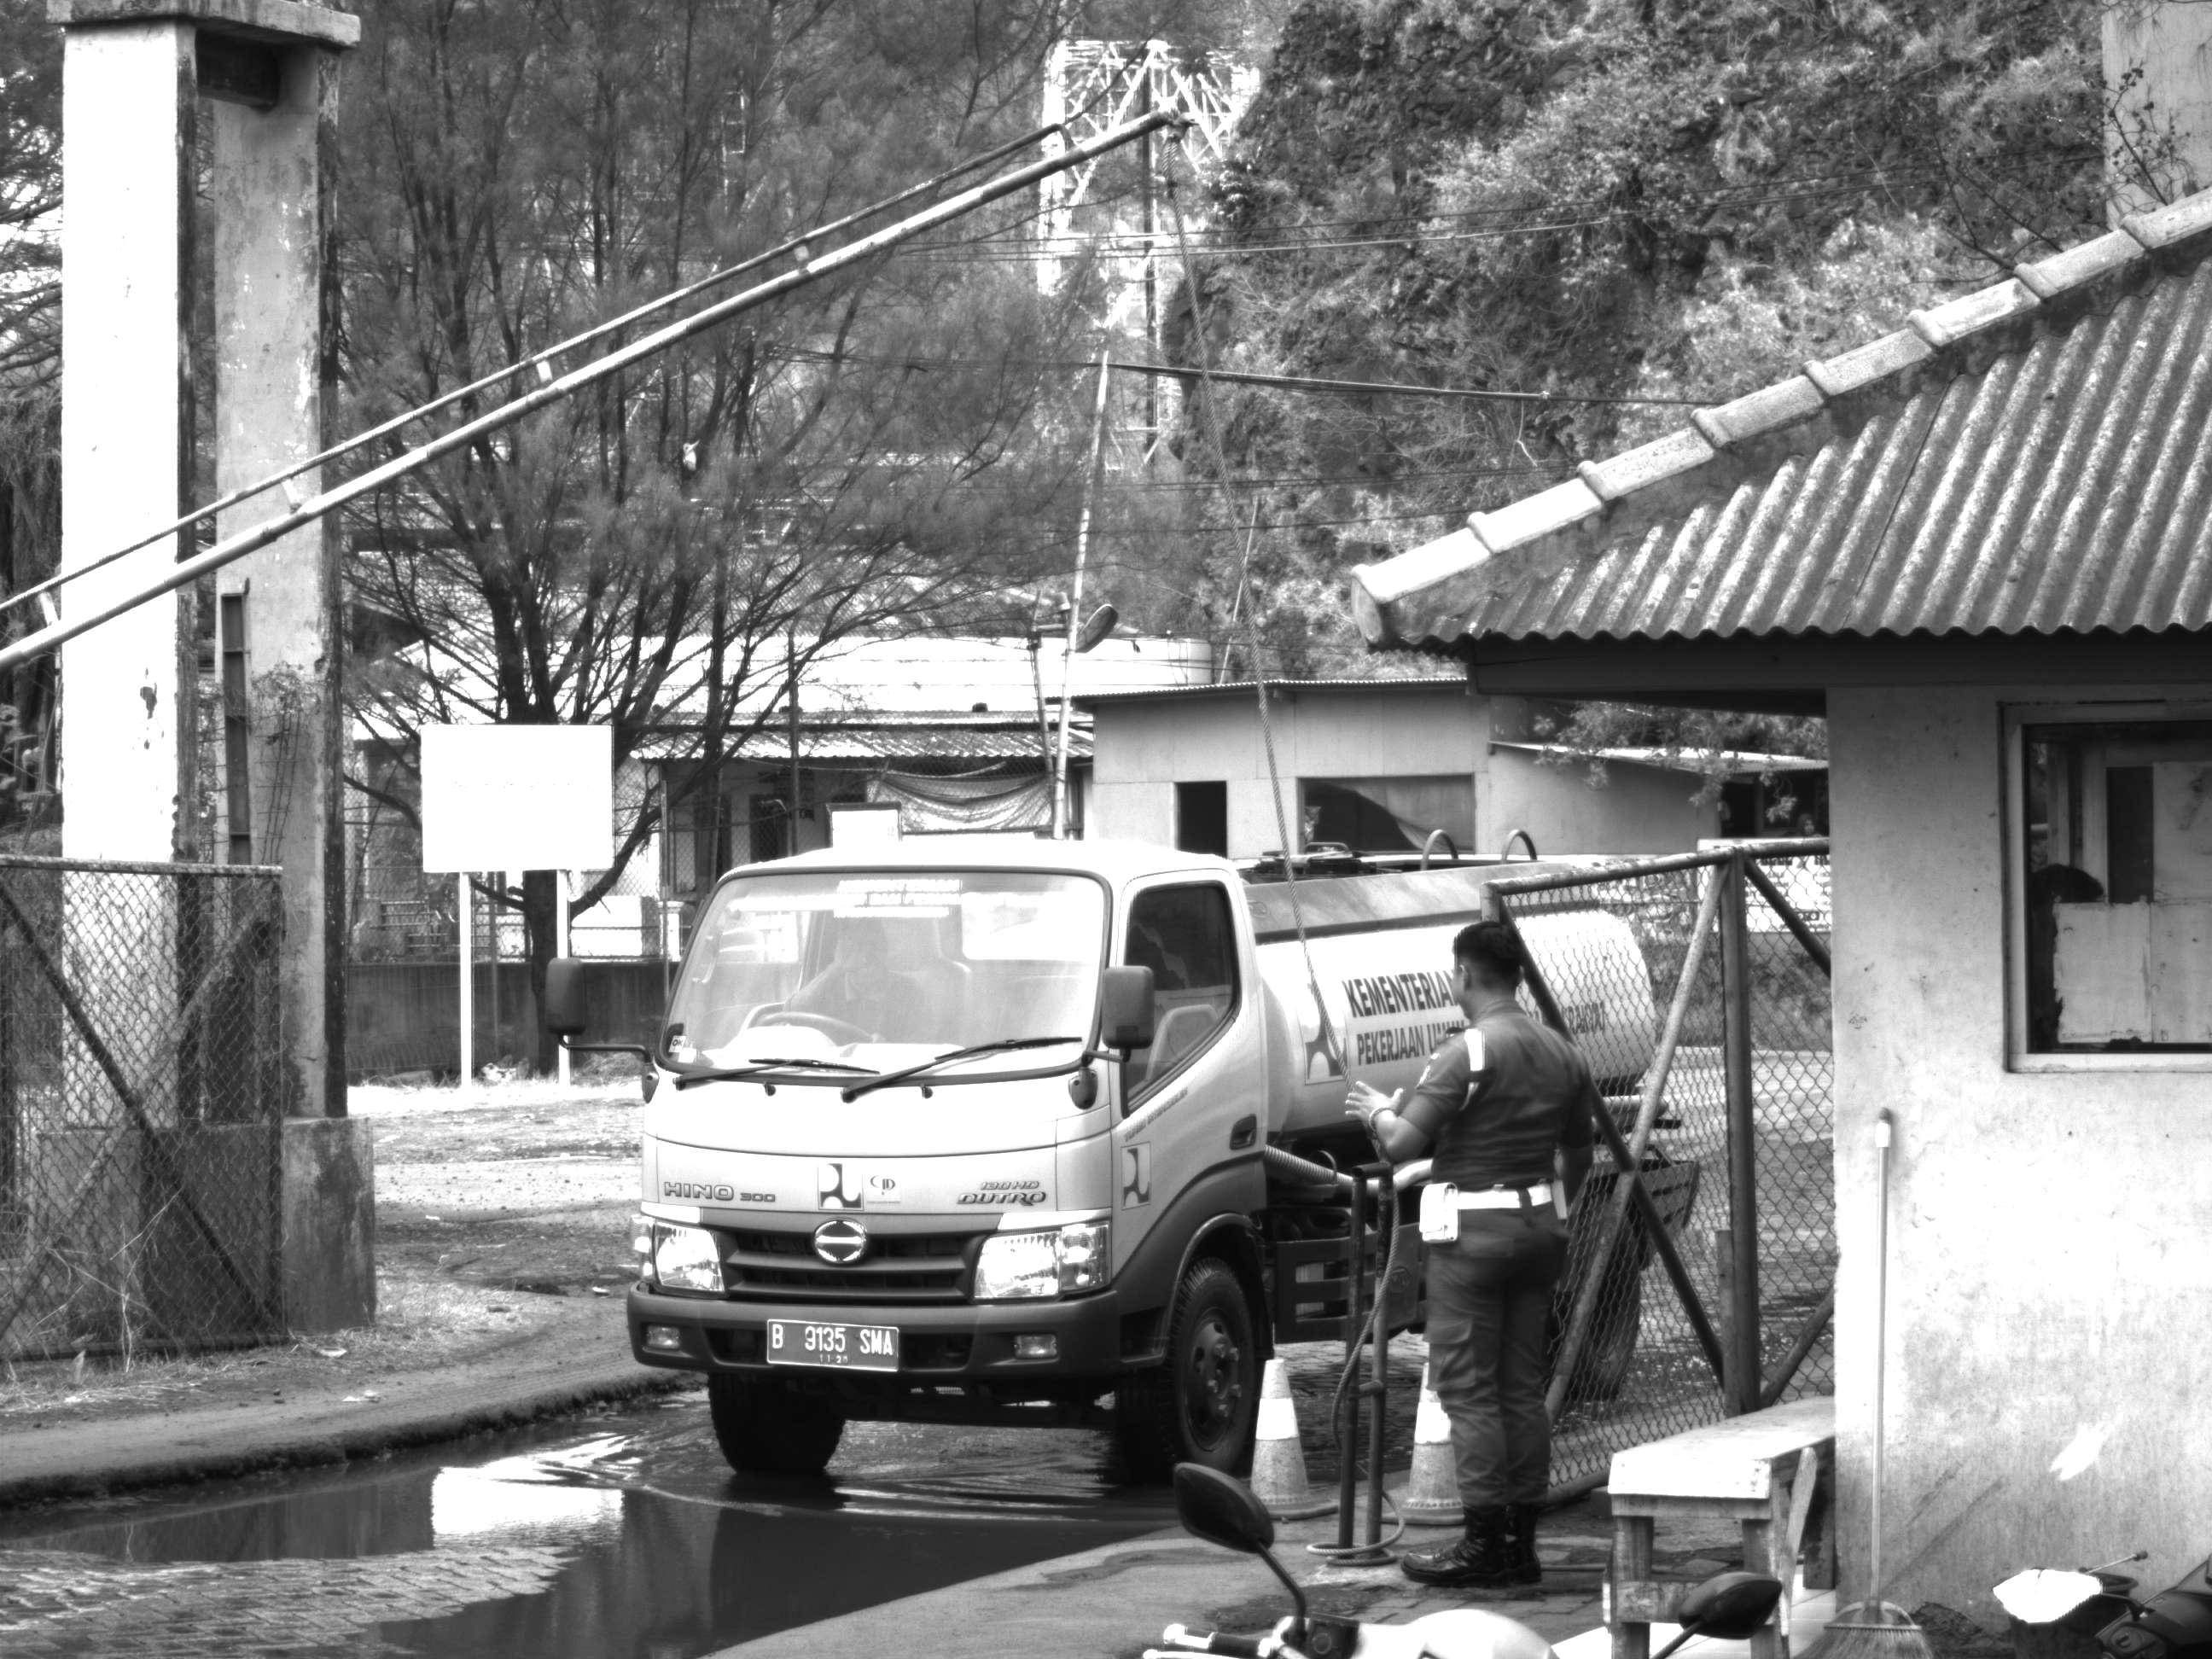day_truck_front: (610, 841, 1301, 1479)
plate: (765, 1318, 911, 1369)
